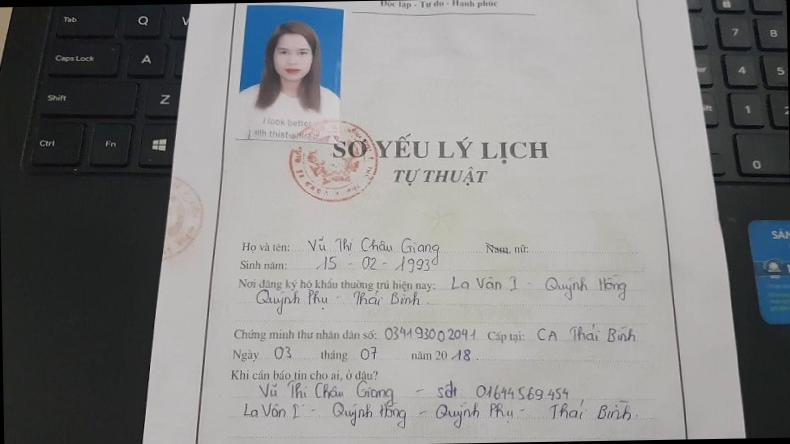text: (232, 318, 640, 352), (330, 129, 550, 170), (304, 232, 441, 269), (236, 271, 437, 296), (258, 376, 396, 411), (432, 374, 571, 404), (310, 249, 434, 278), (228, 364, 380, 386), (326, 397, 406, 432), (432, 397, 514, 431), (544, 272, 630, 304), (391, 164, 489, 190), (544, 396, 634, 424), (252, 287, 330, 318), (348, 286, 422, 312), (446, 272, 521, 296), (377, 0, 497, 14), (244, 126, 324, 144), (242, 398, 300, 422), (314, 343, 380, 364), (407, 345, 472, 364), (238, 258, 288, 275), (238, 240, 290, 255), (484, 241, 529, 258), (260, 115, 312, 129), (51, 51, 98, 66), (230, 345, 259, 366), (769, 223, 790, 244), (44, 88, 68, 106), (271, 344, 291, 362), (36, 134, 57, 150), (135, 50, 153, 66), (136, 12, 150, 28), (156, 92, 172, 106), (104, 135, 118, 151), (180, 12, 190, 32), (64, 13, 78, 26)
